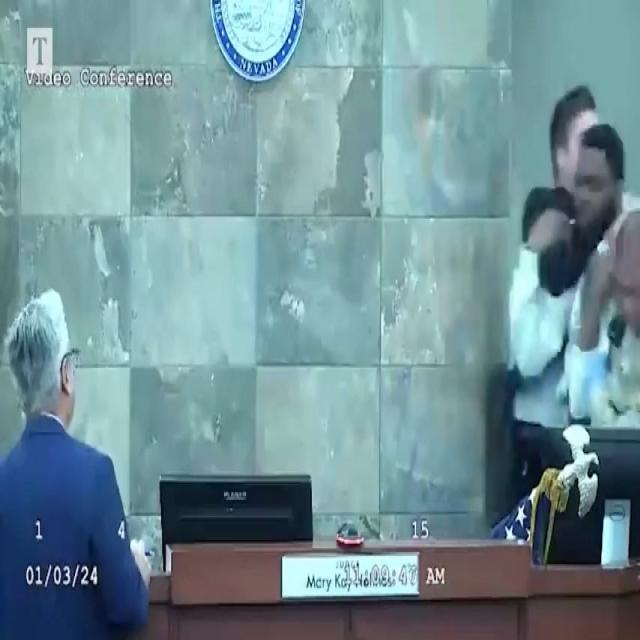fight: (511, 82, 640, 541)
non-fight: (0, 285, 152, 640)
